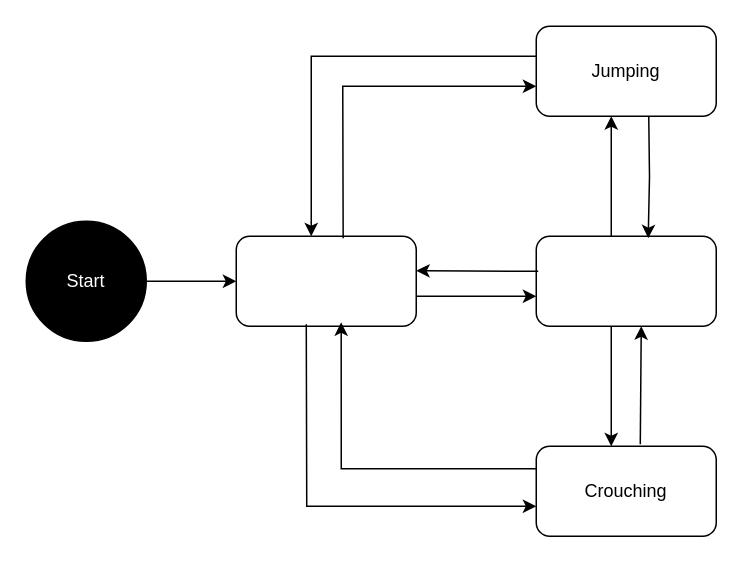
This 743x563 diagram has some shape labels left out. Each missing label, with the box of its shape:
Idle Mode: (235, 235, 416, 326)
Walking: (535, 235, 716, 326)
